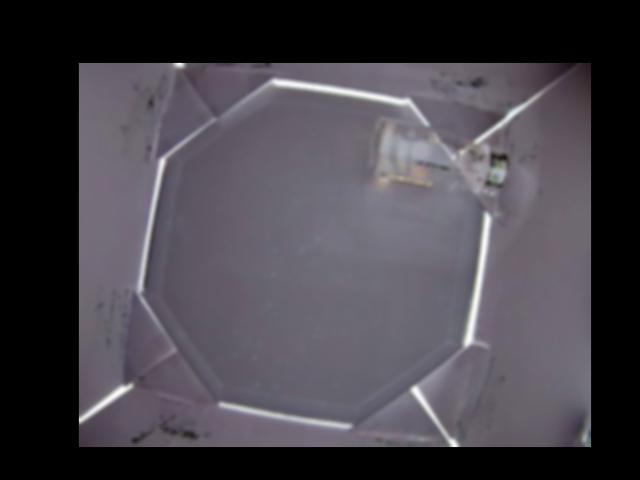Bottle: (367, 119, 510, 194)
